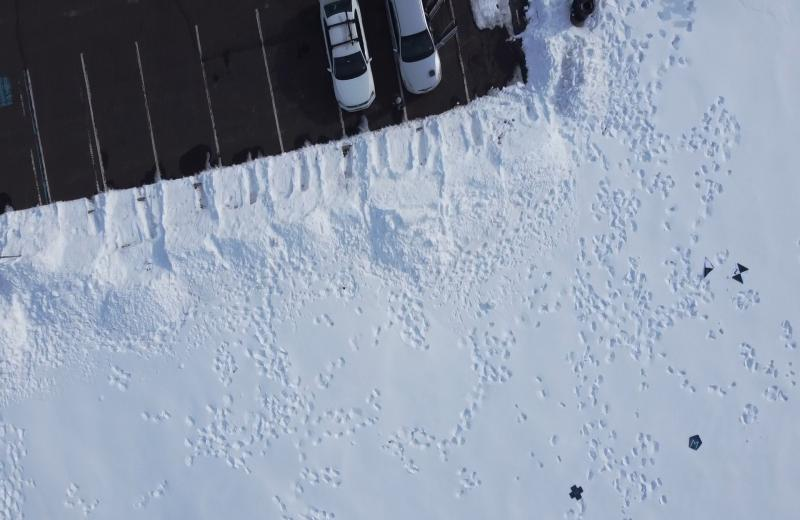Cross: (567, 482, 585, 502)
Pentagon: (686, 433, 704, 452)
